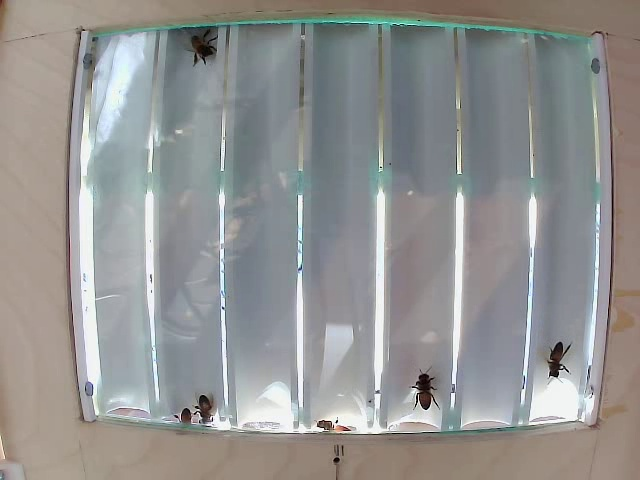bee: (402, 369, 446, 421), (537, 339, 574, 386), (194, 37, 231, 66)
